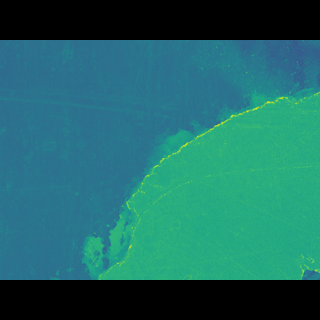Loch: (74, 100, 320, 250)
